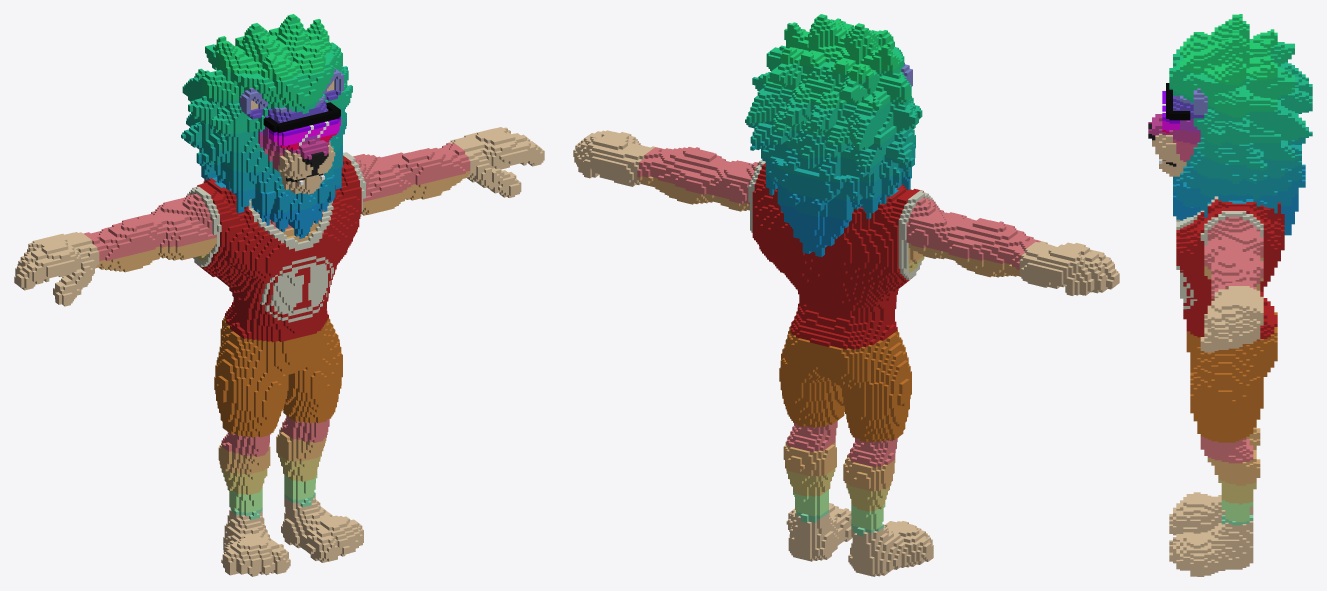
File: 830-D18F0WaM.glb
The picture shows the model from 3 angles, left to right: view 1: azimuth 30°, elevation 25°; view 2: azimuth 150°, elevation 25°; view 3: azimuth 270°, elevation 25°; orthographic projection. The views are drawn at different scales.
Parts seen in each view (by area): view 1: standard; view 2: standard; view 3: standard.
Boxes of the visible parts, box(x1,y1,x2,y2) form: standard: box(14, 14, 544, 576); standard: box(573, 14, 1119, 576); standard: box(1148, 14, 1312, 576).
Size of the model in its own units: 17.2 by 16.5 by 4.7.
Materials: 5 (5 with a texture image).
